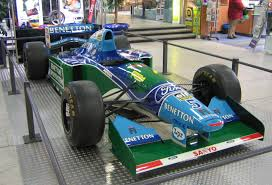f1_car: (20, 19, 266, 180)
